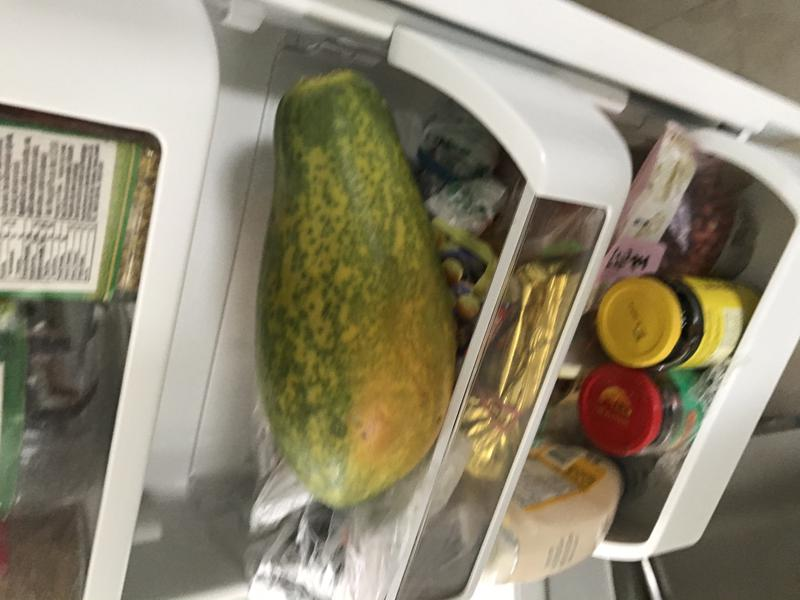papaya: (248, 63, 468, 519)
